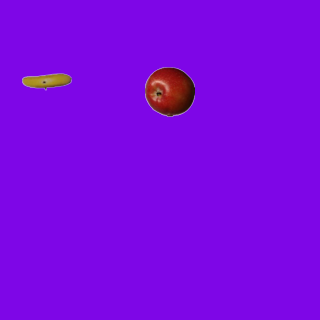Apple Braeburn: (144, 66, 194, 116)
Banana: (21, 56, 71, 106)
